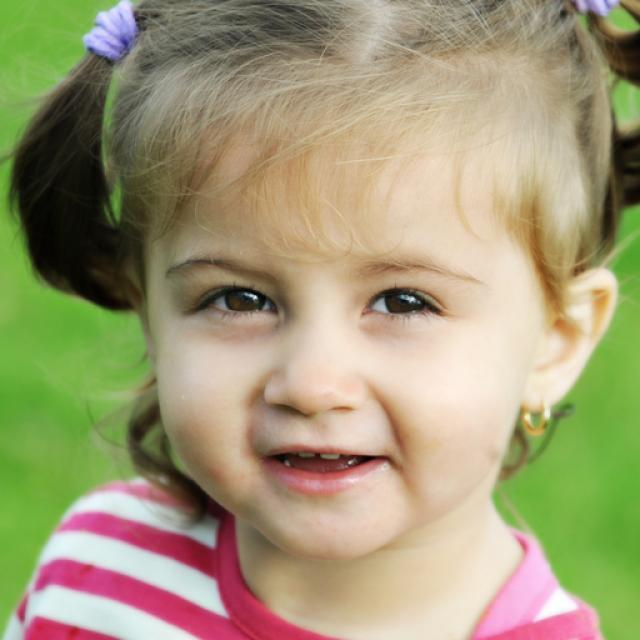happy: (151, 101, 521, 559)
